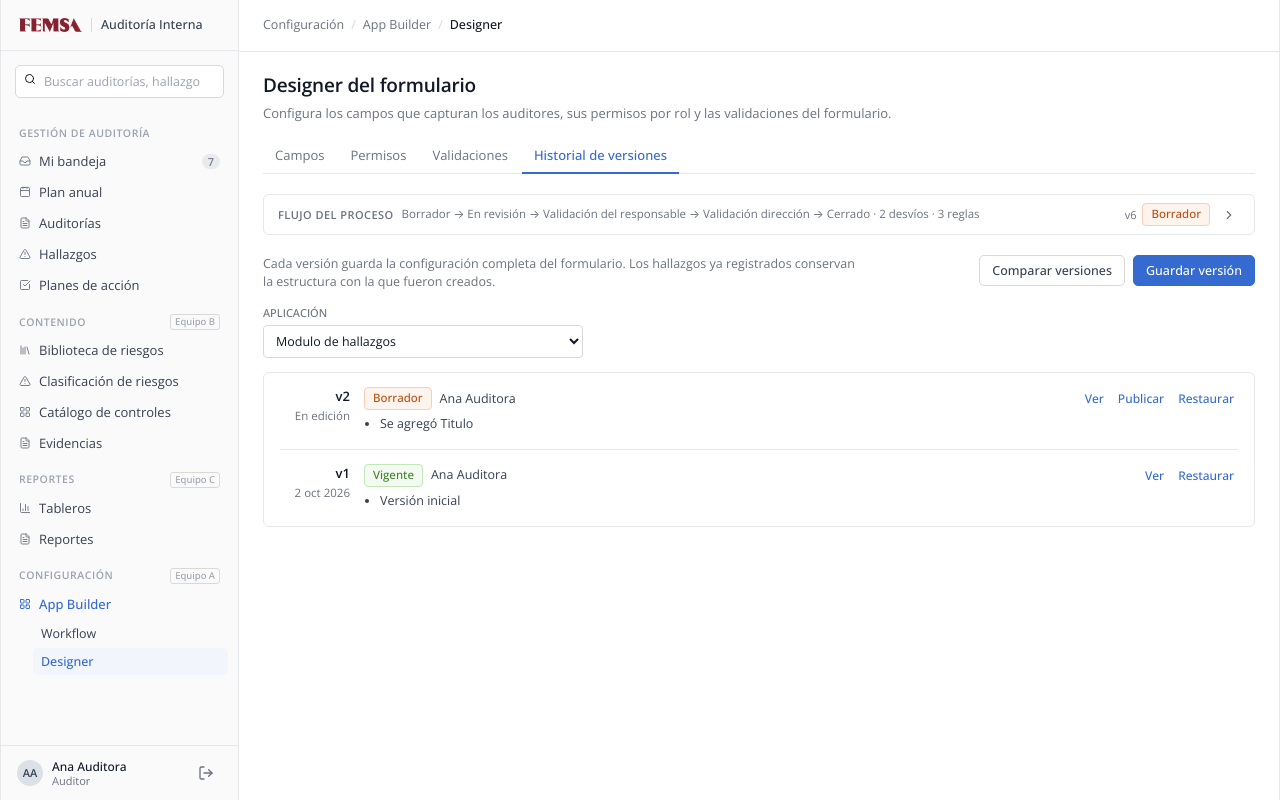
Historial de versiones (US11) › publica un borrador
Click the button "Publicar".
click(1141, 399)  # box left=1114, top=388, right=1168, bottom=409
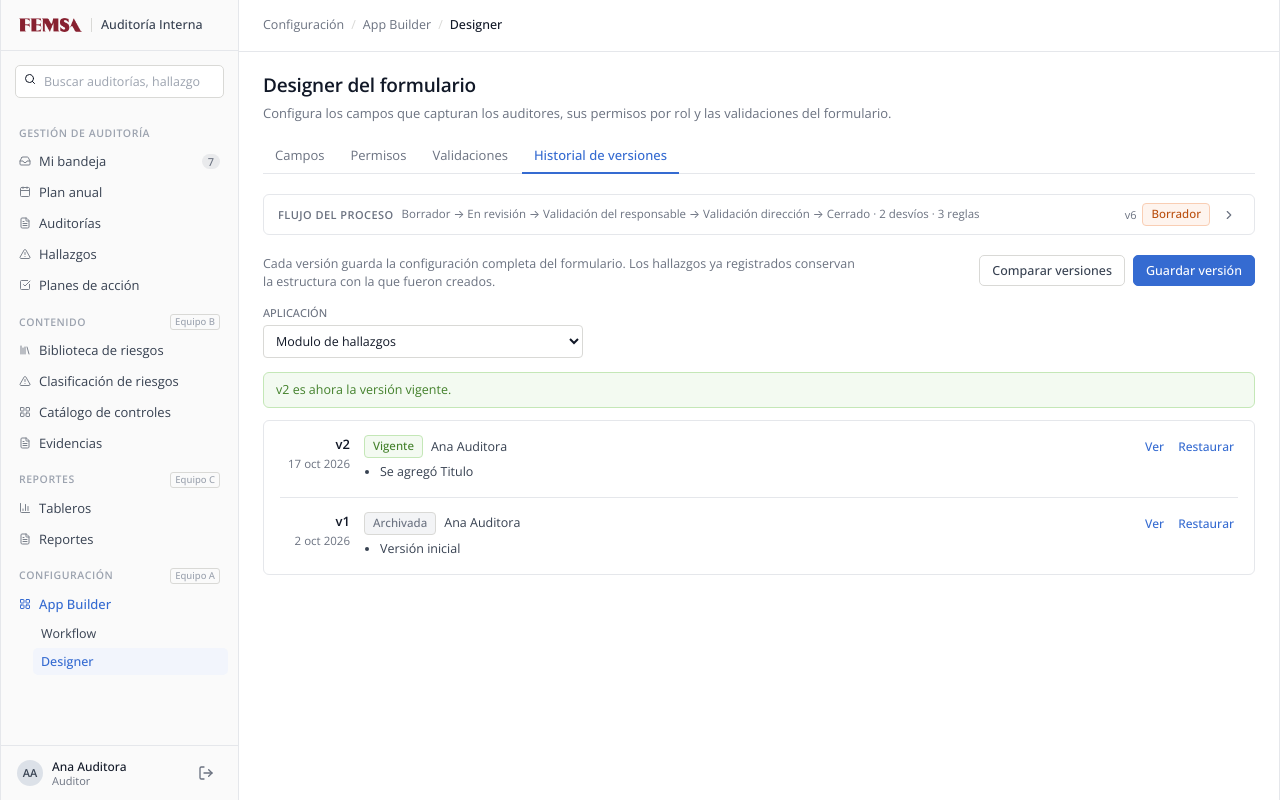
Expected: the message "v2 es ahora la versión vigente." is shown, left=263, top=372, right=1255, bottom=408
Expected: the text named "Versión v1" reads "Archivada", left=373, top=515, right=427, bottom=530
